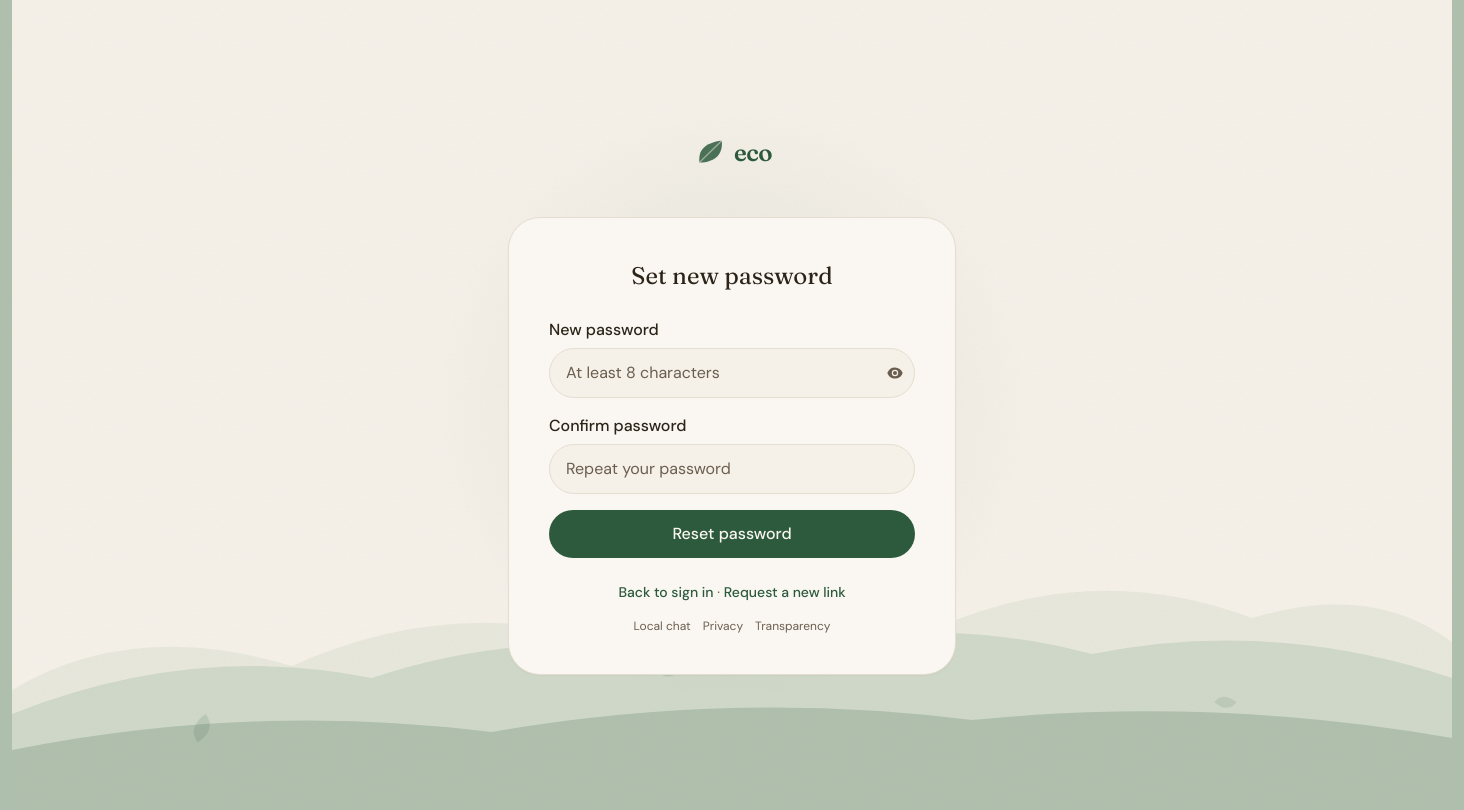
ResetPasswordPage › submits a valid token and shows sign-in plus local-chat paths on success
The image size is (1464, 810).
Type "newsecret" into the password field labelled "New password" at x=732, y=372, box x1=549 y1=348 x2=915 y2=398
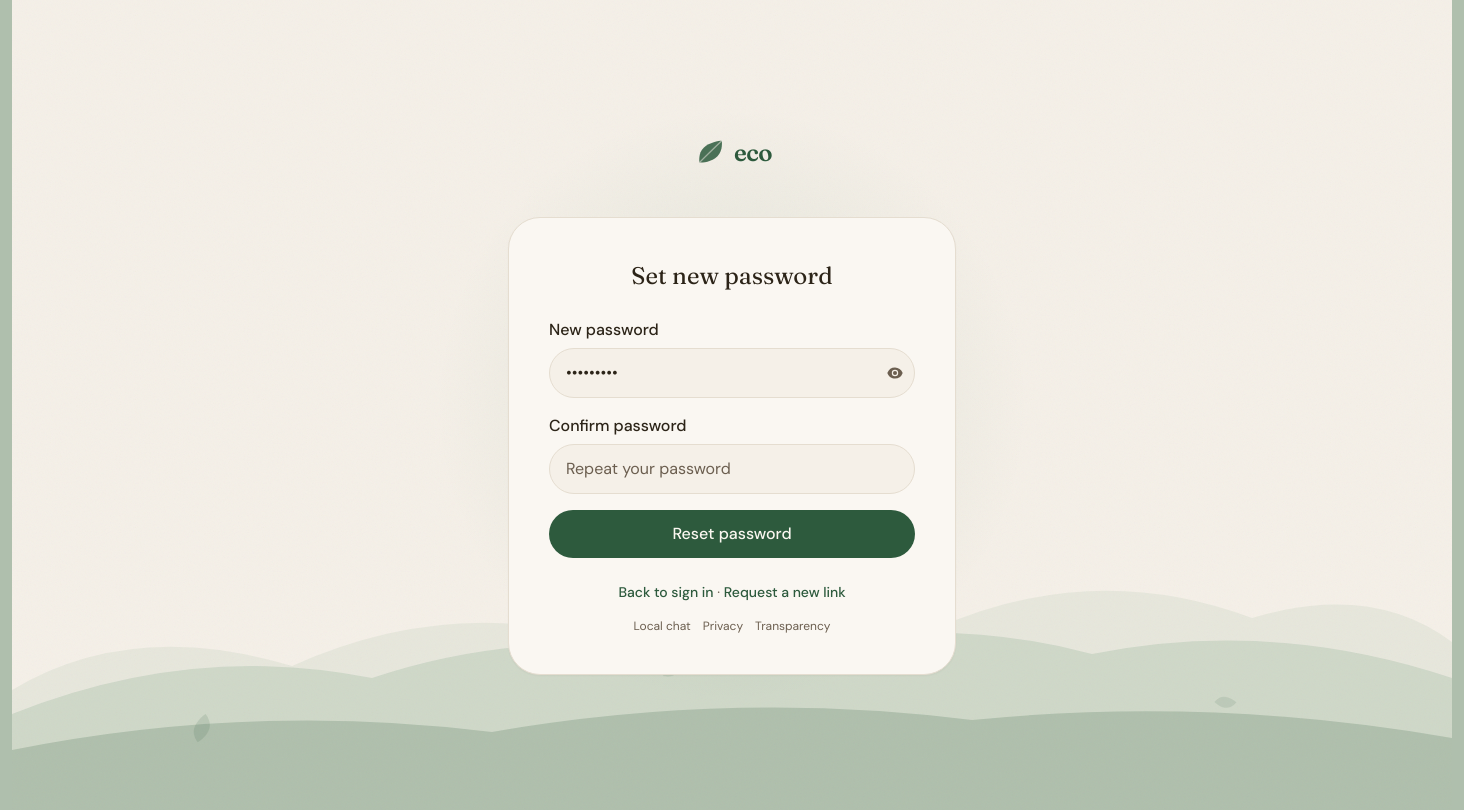
Type "newsecret" into the password field labelled "Confirm password" at x=732, y=468, box x1=549 y1=444 x2=915 y2=494
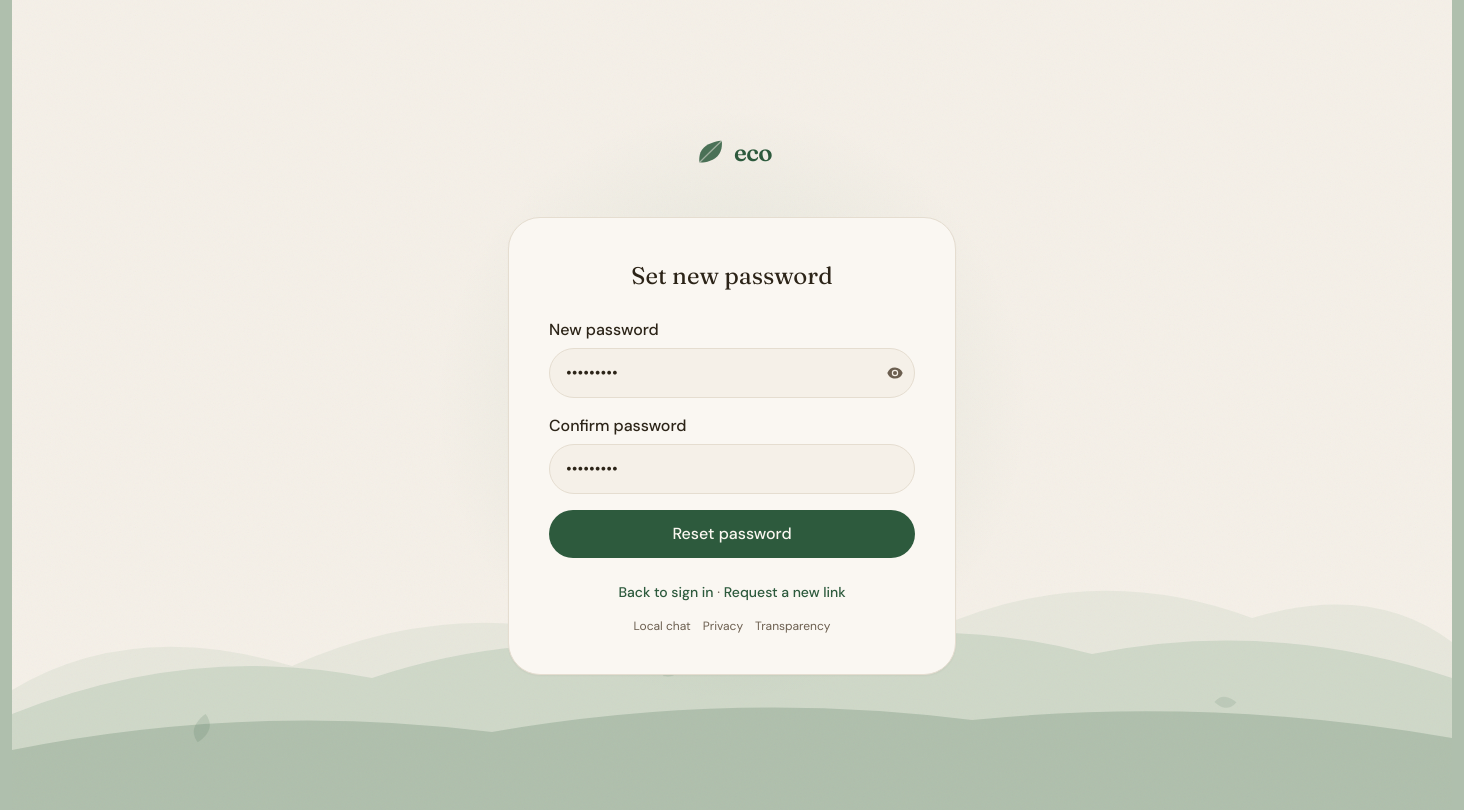
Click the button "Reset password" at x=732, y=534, box x1=549 y1=510 x2=915 y2=558
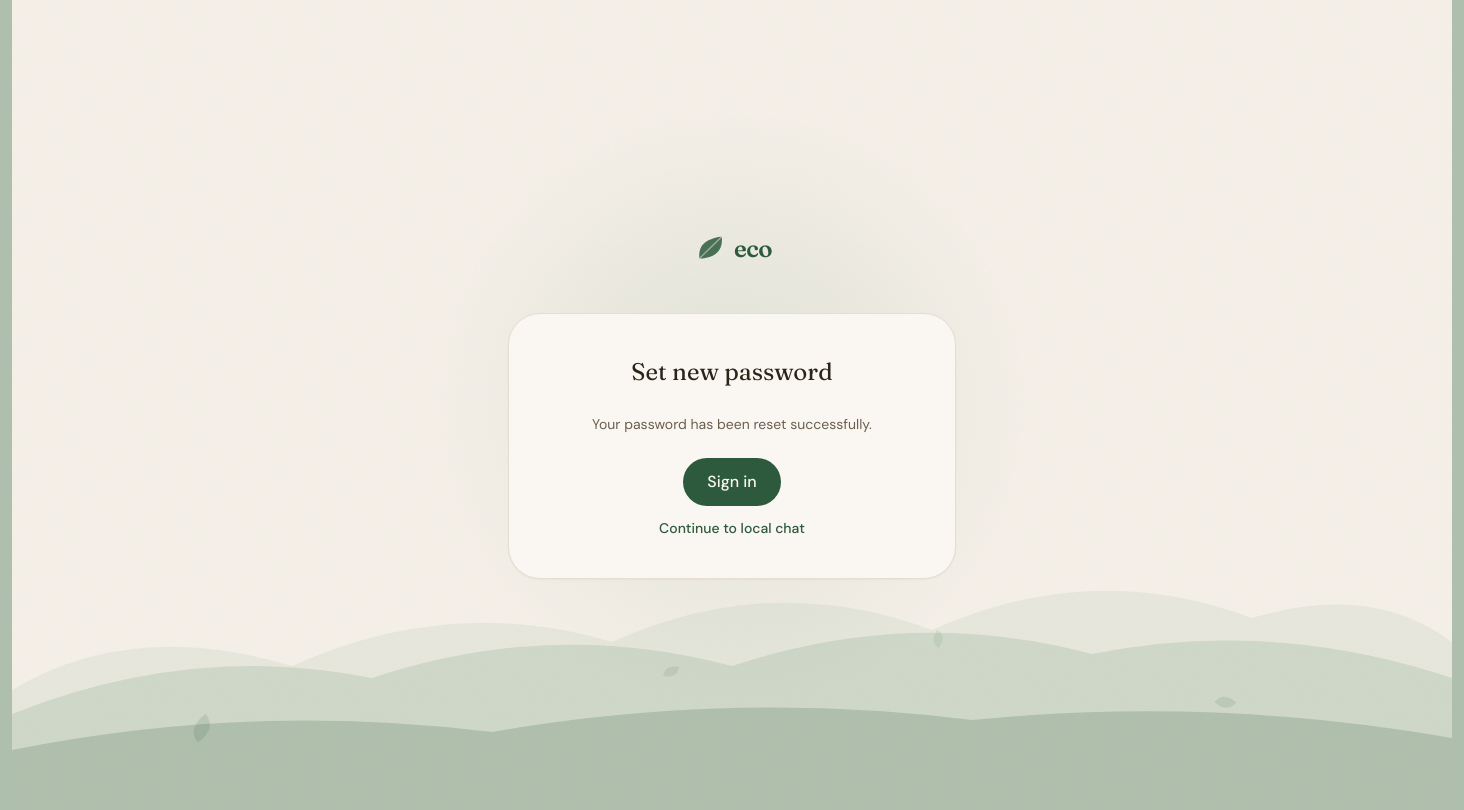
Result: the message shows "password has been reset" at x1=592 y1=414 x2=872 y2=432
